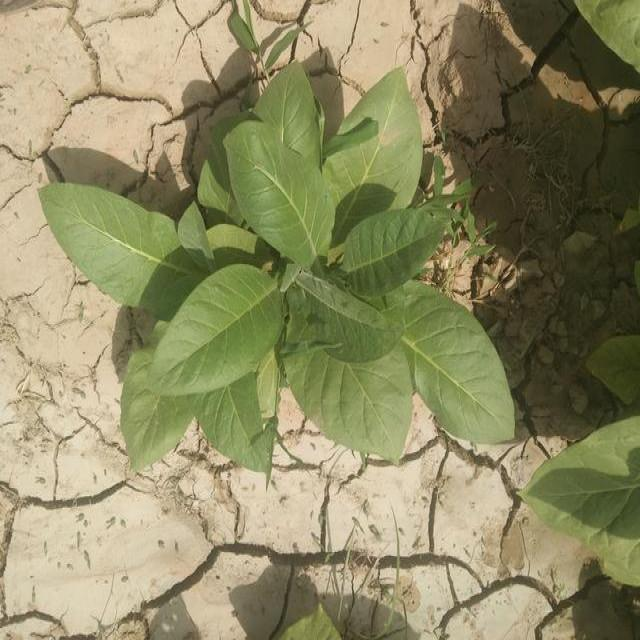crop: (248, 99, 410, 447), (46, 192, 322, 303), (326, 287, 510, 448), (126, 276, 272, 475)
